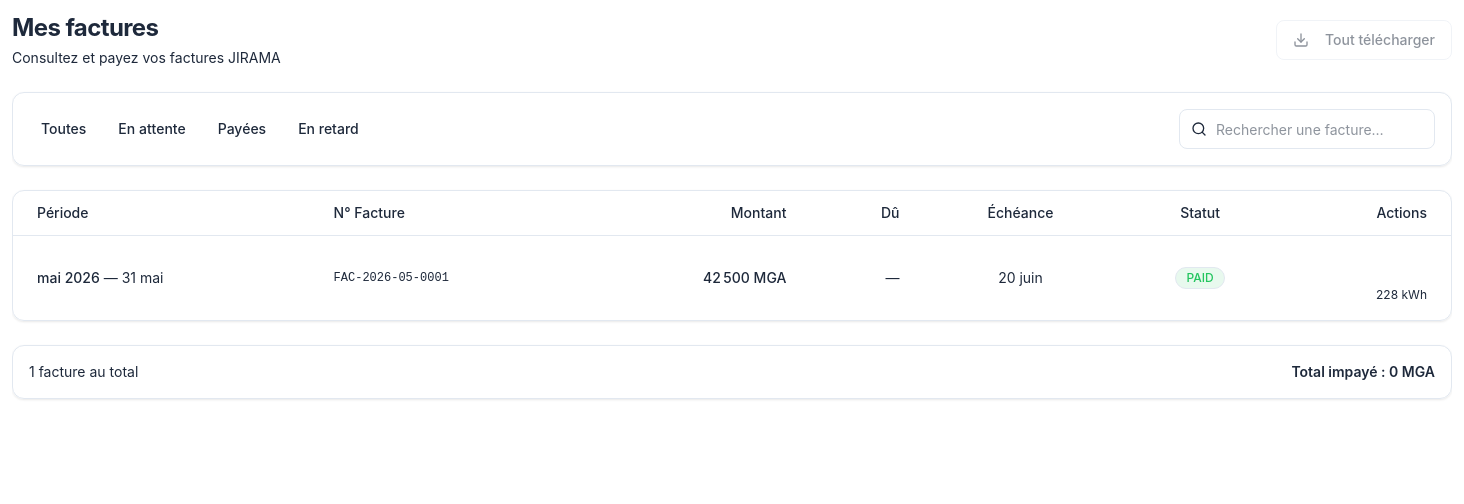
Test: BillsPage › affiche un message différent quand le filtre ne donne aucun résultat
What coordinates should you click on to do the following:
click the button "En retard"
I would click on:
 (328, 129)
Its box is [286, 113, 371, 145].
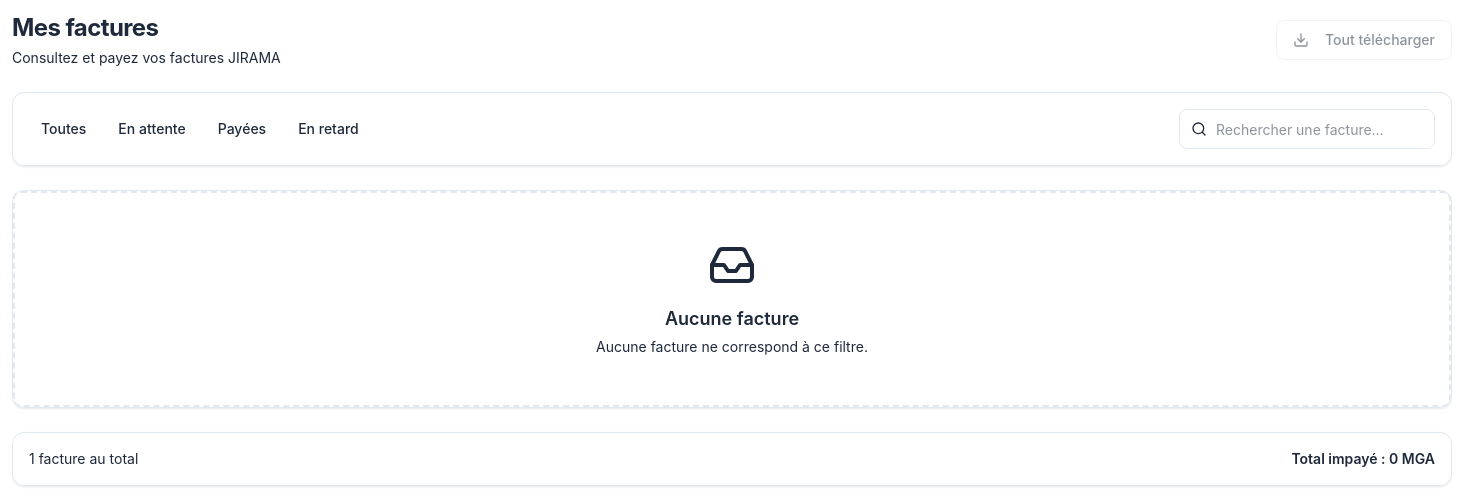
Expected: the text "Aucune facture ne correspond à ce filtre." is shown, [596, 337, 868, 357]
